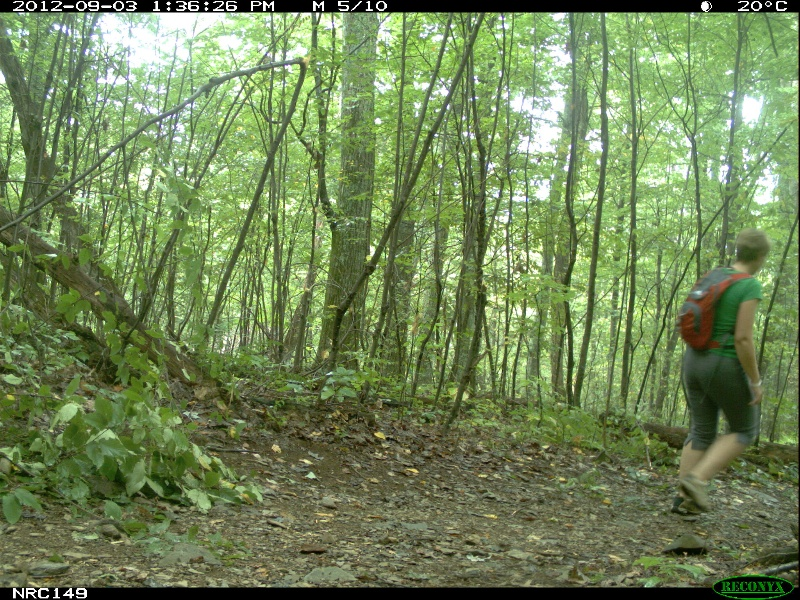human: (666, 223, 772, 533)
human legs: (668, 346, 762, 533)
